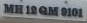character: (3, 3, 13, 14), (47, 6, 58, 15), (38, 5, 47, 15), (14, 3, 22, 14), (60, 6, 67, 16), (71, 7, 78, 16), (25, 4, 30, 14), (30, 5, 36, 13), (67, 6, 71, 17), (78, 6, 82, 17)
